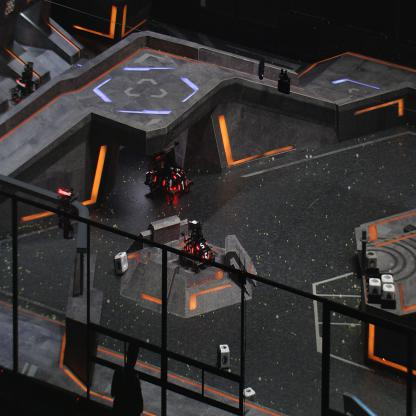car: (144, 131, 194, 202), (177, 219, 216, 274), (10, 61, 41, 106)
